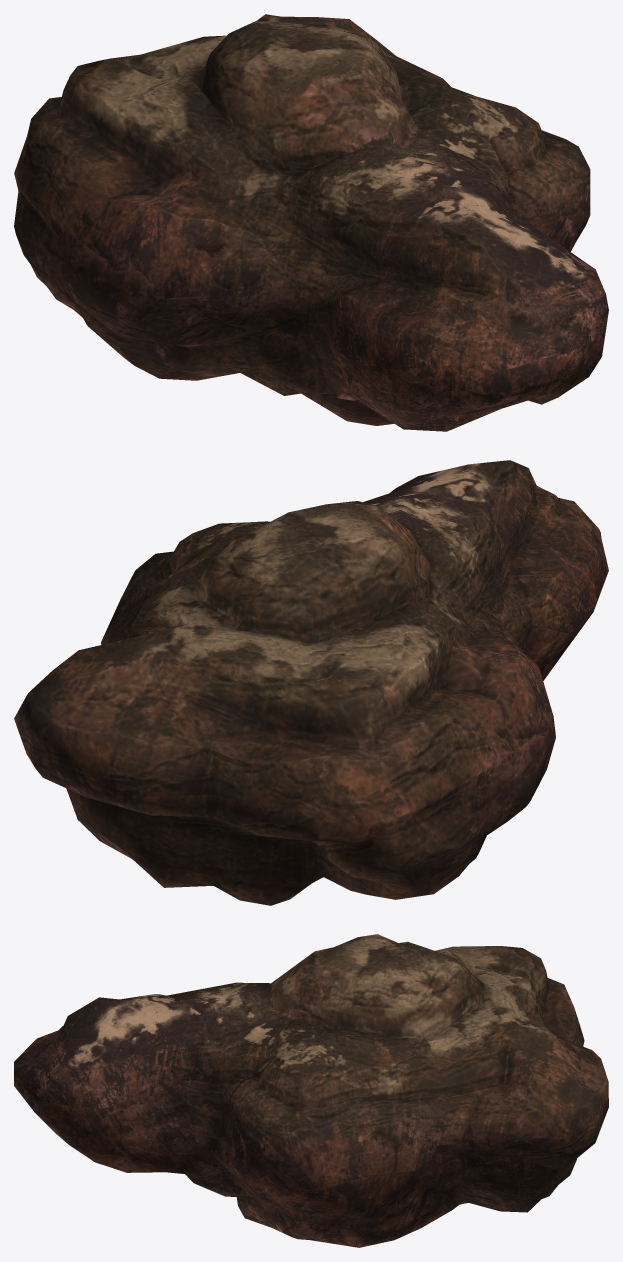
File: rock_red_small05.dae
3 views of the same model, one above another, from view 1: azimuth 30°, elevation 25°; view 2: azimuth 150°, elevation 25°; view 3: azimuth 270°, elevation 25° (orthographic). The views are drawn at different scales.
Parts seen in each view (by area): view 1: Mesh03; view 2: Mesh03; view 3: Mesh03.
Part boxes in pixels (bbox=[...]): Mesh03: bbox=[14, 14, 608, 431]; Mesh03: bbox=[14, 460, 608, 905]; Mesh03: bbox=[14, 934, 608, 1247].
Size of the model in its own units: 3.94 by 2.8 by 5.8.
